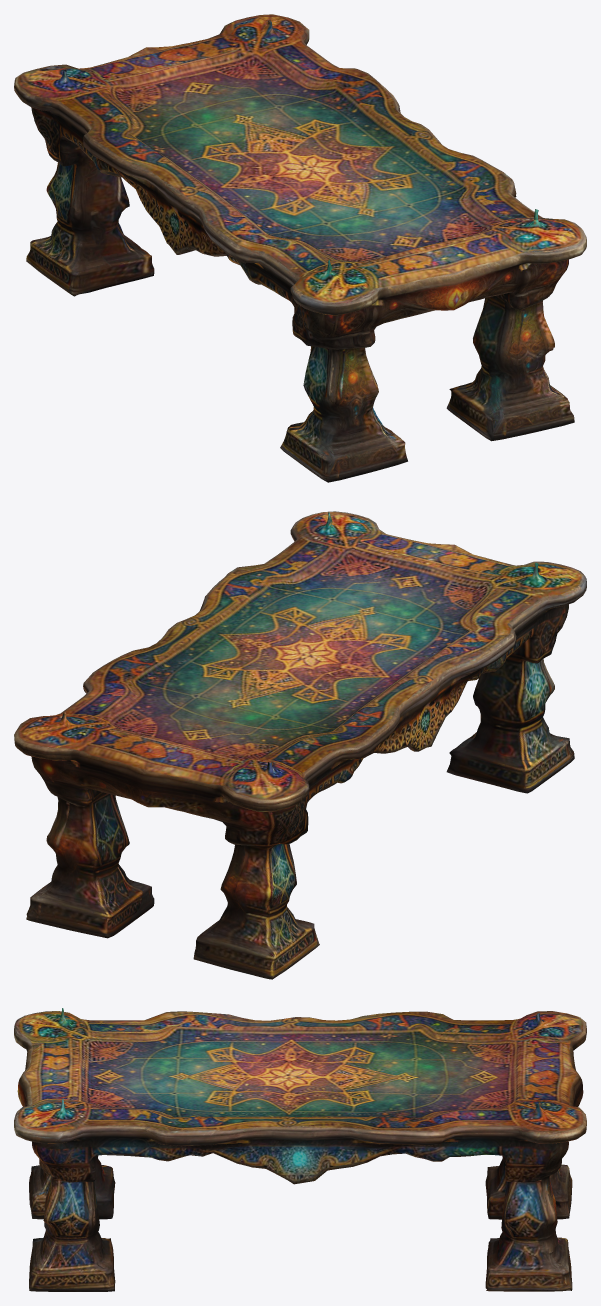
File: table.glb
3 renders of one model, top to bottom at view 1: azimuth 30°, elevation 25°; view 2: azimuth 150°, elevation 25°; view 3: azimuth 270°, elevation 25°, orthographic. The views are drawn at different scales.
Visible parts, largest first — view 1: Mesh_0; view 2: Mesh_0; view 3: Mesh_0.
Boxes of the visible parts, left/top/right/bottom form: Mesh_0: left=14, top=14, right=586, bottom=482; Mesh_0: left=14, top=511, right=586, bottom=979; Mesh_0: left=14, top=1008, right=586, bottom=1291.
Bounding box in the file's own units: 1.44 × 1 × 2.81.
Materials: 1 (1 with a texture image).
